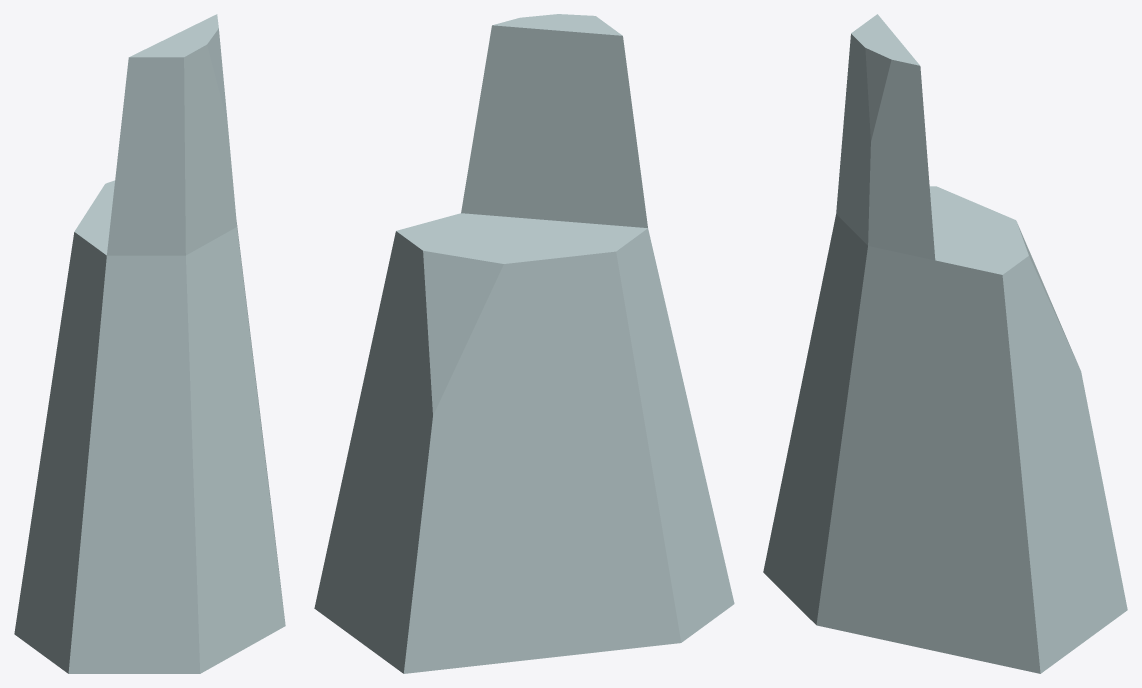
File: stone_tallD.glb
The picture shows the model from 3 angles, left to right: view 1: azimuth 30°, elevation 25°; view 2: azimuth 150°, elevation 25°; view 3: azimuth 270°, elevation 25°; orthographic projection. The views are drawn at different scales.
Parts seen in each view (by area): view 1: stone_tallD; view 2: stone_tallD; view 3: stone_tallD.
Boxes of the visible parts, x1=… form: stone_tallD: x1=14, y1=14, x2=285, y2=673; stone_tallD: x1=314, y1=14, x2=734, y2=673; stone_tallD: x1=763, y1=14, x2=1127, y2=673.
Size of the model in its own units: 0.4428 by 0.7721 by 0.4615.
